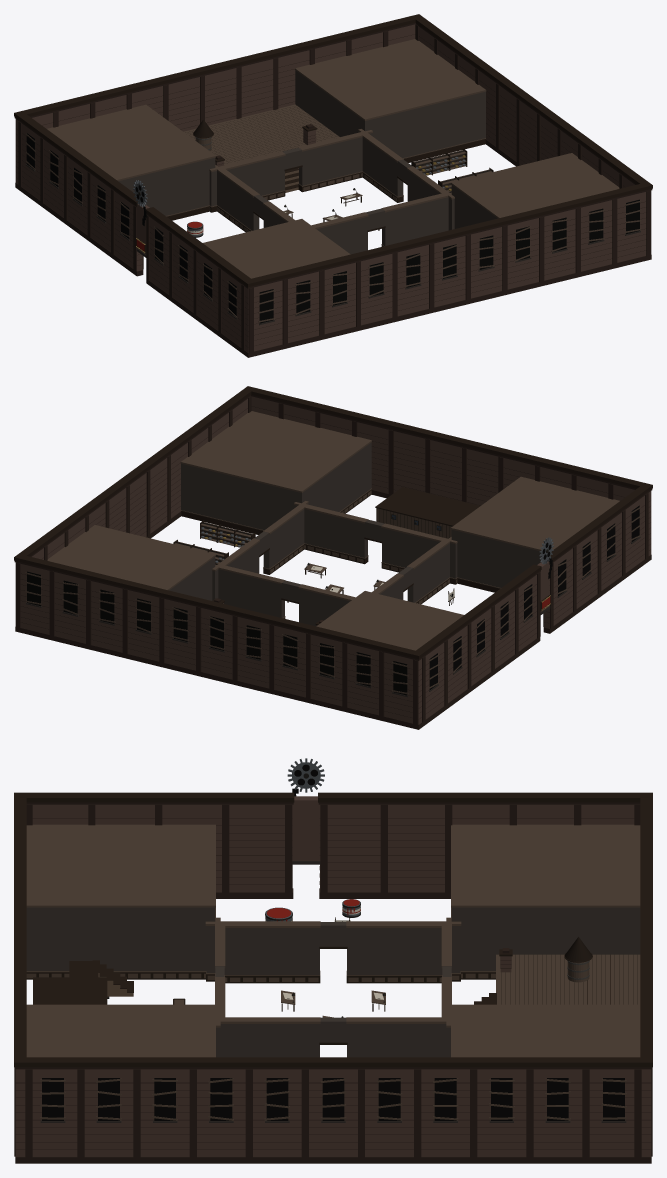
Rendered from tinteiro.glb.
The picture shows the model from 3 angles, top to bottom: view 1: azimuth 30°, elevation 25°; view 2: azimuth 150°, elevation 25°; view 3: azimuth 270°, elevation 25°; orthographic projection. The views are drawn at different scales.
Visible parts, largest first — view 1: map_st_brick.001, map_st_wood.001, map_st_wall.001, map_st_brick_d.001, map_st_wood_d.001, map_st_ink.001, map_stone_dark.012, map_st_wall_d.001, map_st_can.001; view 2: map_st_brick.001, map_st_wood.001, map_st_wall.001, map_st_brick_d.001, map_st_wood_d.001, map_st_ink.001, map_stone_dark.012, map_st_wall_d.001; view 3: map_st_wood.001, map_st_brick.001, map_st_wall.001, map_st_brick_d.001, map_st_wood_d.001, map_st_ink.001, map_st_can.001, map_wood_dark.013, map_stone_dark.012.
Boxes of the visible parts, left/top/right/bottom form: map_st_brick.001: left=15, top=24, right=646, bottom=352; map_st_wood.001: left=25, top=39, right=641, bottom=322; map_st_wall.001: left=118, top=70, right=497, bottom=254; map_st_brick_d.001: left=14, top=23, right=652, bottom=357; map_st_wood_d.001: left=14, top=14, right=652, bottom=287; map_st_ink.001: left=26, top=133, right=639, bottom=323; map_stone_dark.012: left=25, top=164, right=640, bottom=325; map_st_wall_d.001: left=414, top=150, right=491, bottom=192; map_st_can.001: left=133, top=157, right=465, bottom=237; map_st_brick.001: left=20, top=396, right=651, bottom=724; map_st_wood.001: left=25, top=411, right=640, bottom=694; map_st_wall.001: left=169, top=442, right=541, bottom=626; map_st_brick_d.001: left=14, top=395, right=652, bottom=729; map_st_wood_d.001: left=14, top=386, right=652, bottom=659; map_st_ink.001: left=27, top=505, right=639, bottom=695; map_stone_dark.012: left=26, top=536, right=640, bottom=697; map_st_wall_d.001: left=175, top=522, right=252, bottom=564; map_st_wood.001: left=26, top=824, right=640, bottom=1120; map_st_brick.001: left=15, top=796, right=651, bottom=1156; map_st_wall.001: left=26, top=907, right=640, bottom=1057; map_st_brick_d.001: left=14, top=802, right=652, bottom=1163; map_st_wood_d.001: left=14, top=792, right=652, bottom=1067; map_st_ink.001: left=42, top=764, right=624, bottom=1120; map_st_can.001: left=265, top=758, right=360, bottom=921; map_wood_dark.013: left=92, top=953, right=592, bottom=1004; map_stone_dark.012: left=40, top=861, right=626, bottom=1122.
Bounding box in the file's own units: 70.7 × 16.53 × 70.4.
